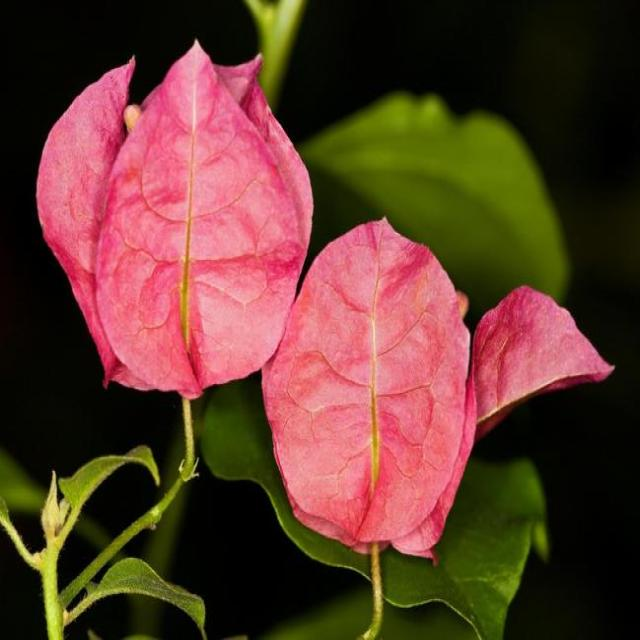bougainvillea: (17, 20, 628, 640)
